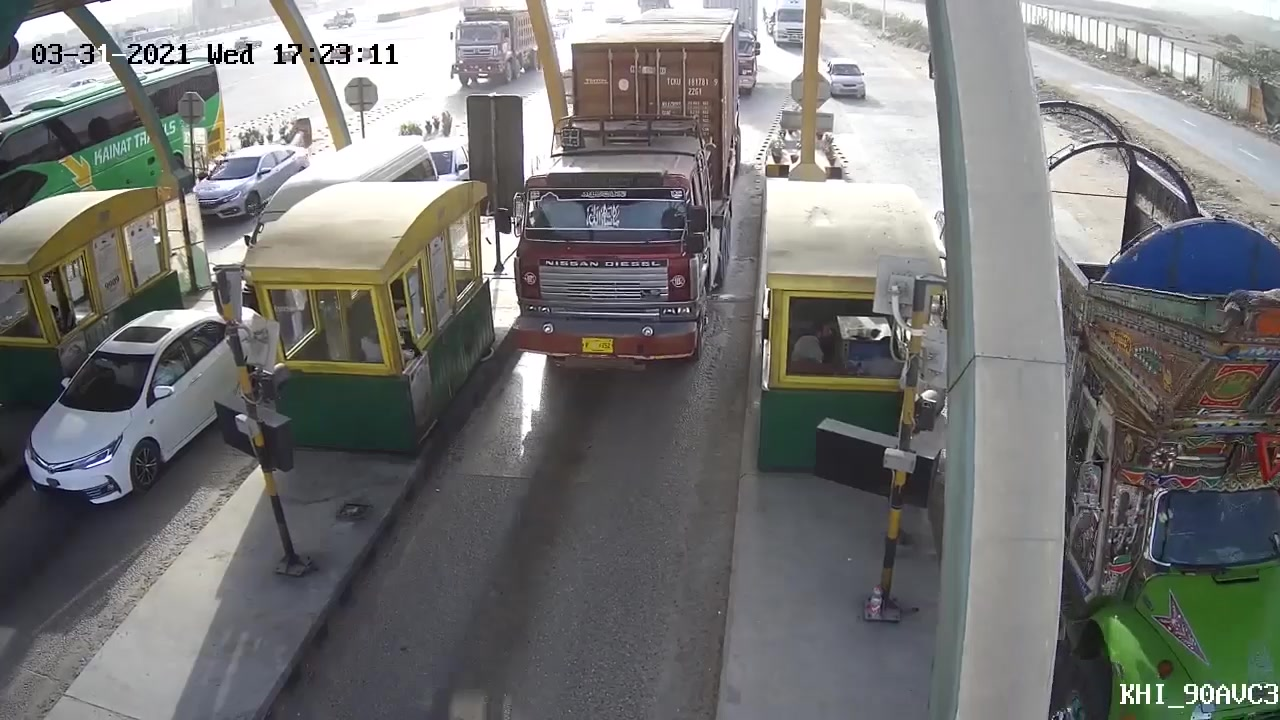F6: (490, 8, 750, 389)
